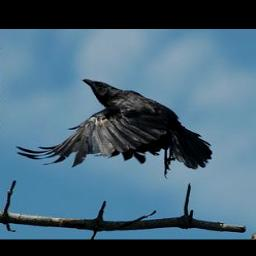Crow: (11, 77, 210, 179)
